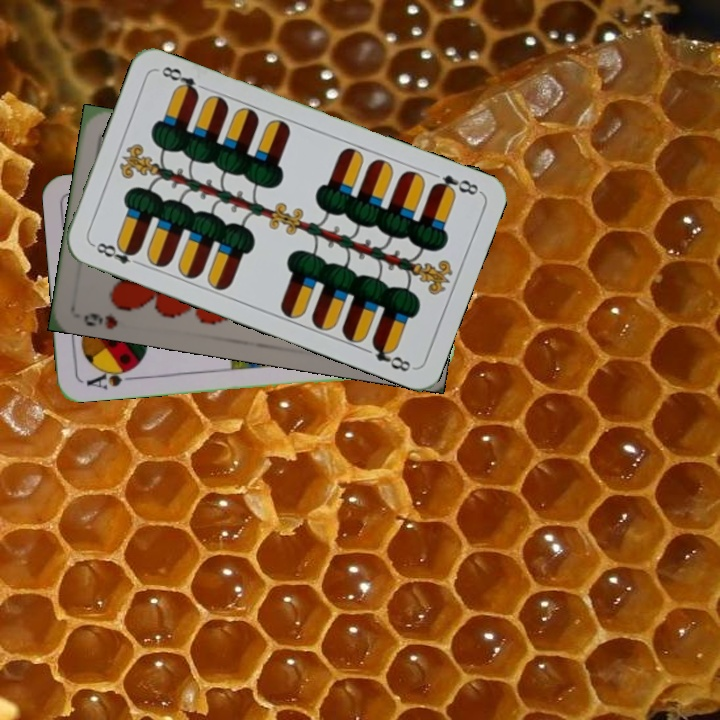E8: (88, 238, 145, 269), (428, 170, 483, 198)
H9: (80, 309, 120, 332)
SA: (82, 362, 140, 392)
